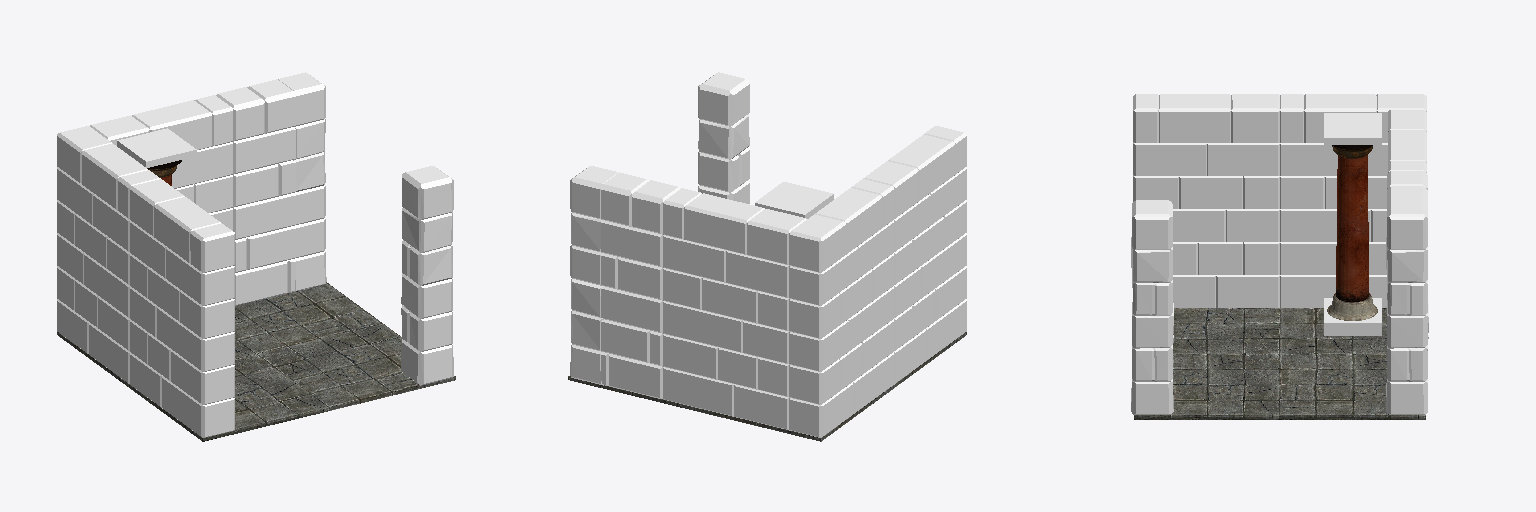
3 renders of one model, left to right at view 1: azimuth 30°, elevation 25°; view 2: azimuth 150°, elevation 25°; view 3: azimuth 270°, elevation 25°, orthographic.
Parts seen in each view (by area): view 1: Box4139, Box4144, Box001ui, Box4146, Box4141, Box4138, Box4145, Box4142, Box4140, Box004OP; view 2: Box4138, Box4144, Box4139, Box001ui, Box4145, Box4146, Box004OP, Box4143; view 3: Box4139, Box4144, Box4146, Box4145, Box4141, Box4142, Line002, Box4140, Box4143, Box4138, Box004OP, Box004OOO (+1 smaller).
Part boxes in pixels (x1,y1,x2,y2): Box4139: (130, 179, 234, 437); Box4144: (57, 126, 160, 383); Box001ui: (216, 79, 295, 305); Box4146: (401, 166, 453, 385); Box4141: (257, 323, 455, 410); Box4138: (90, 95, 232, 230); Box4145: (278, 72, 326, 291); Box4142: (235, 282, 381, 353); Box4140: (130, 354, 329, 441); Box004OP: (117, 128, 196, 167); Box4138: (663, 188, 806, 429); Box4144: (789, 179, 893, 437); Box4139: (863, 126, 966, 383); Box001ui: (600, 172, 680, 398); Box4145: (570, 166, 618, 385); Box4146: (698, 72, 749, 203); Box004OP: (755, 182, 833, 218); Box4143: (694, 385, 893, 441); Box4139: (1133, 94, 1279, 307); Box4144: (1280, 94, 1426, 307); Box4146: (1131, 200, 1173, 414); Box4145: (1386, 200, 1428, 414); Box4141: (1134, 354, 1279, 419); Box4142: (1279, 354, 1425, 419); Line002: (1327, 145, 1377, 320); Box4140: (1173, 308, 1279, 354); Box4143: (1280, 308, 1386, 354); Box4138: (1388, 110, 1426, 172); Box004OP: (1324, 113, 1381, 144); Box004OOO: (1324, 298, 1381, 335).
Bounding box in the file's own units: 4.03 × 3.08 × 4.09.
Materials: 4 (2 with a texture image).